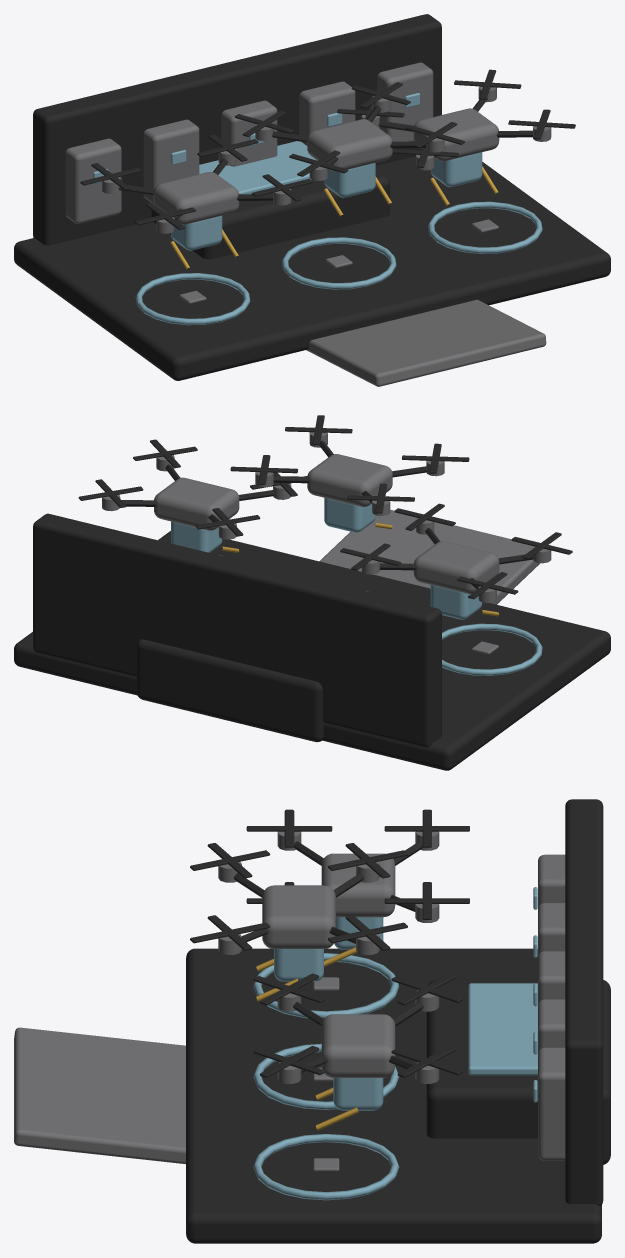
File: agricultural-drones.glb
3 views of the same model, one above another, from view 1: azimuth 30°, elevation 25°; view 2: azimuth 150°, elevation 25°; view 3: azimuth 270°, elevation 25° (orthographic). The views are drawn at different scales.
Parts seen in each view (by area): view 1: agricultural-drones-farm-window, agricultural-drones-farm-metal, agricultural-drones-farm-accent-blue, agricultural-drones-farm-gold; view 2: agricultural-drones-farm-window, agricultural-drones-farm-metal, agricultural-drones-farm-accent-blue; view 3: agricultural-drones-farm-window, agricultural-drones-farm-metal, agricultural-drones-farm-accent-blue, agricultural-drones-farm-gold.
Part boxes in pixels (x1=…): agricultural-drones-farm-window: x1=14, y1=14, x2=610, y2=380; agricultural-drones-farm-metal: x1=65, y1=62, x2=551, y2=386; agricultural-drones-farm-accent-blue: x1=93, y1=93, x2=542, y2=325; agricultural-drones-farm-gold: x1=170, y1=166, x2=498, y2=269; agricultural-drones-farm-window: x1=14, y1=415, x2=610, y2=770; agricultural-drones-farm-metal: x1=102, y1=432, x2=551, y2=654; agricultural-drones-farm-accent-blue: x1=171, y1=498, x2=542, y2=675; agricultural-drones-farm-window: x1=186, y1=799, x2=610, y2=1243; agricultural-drones-farm-metal: x1=14, y1=831, x2=565, y2=1171; agricultural-drones-farm-accent-blue: x1=253, y1=887, x2=537, y2=1200; agricultural-drones-farm-gold: x1=256, y1=947, x2=359, y2=1130.
Bounding box in the file's own units: 5.4 × 2.04 × 5.02.
